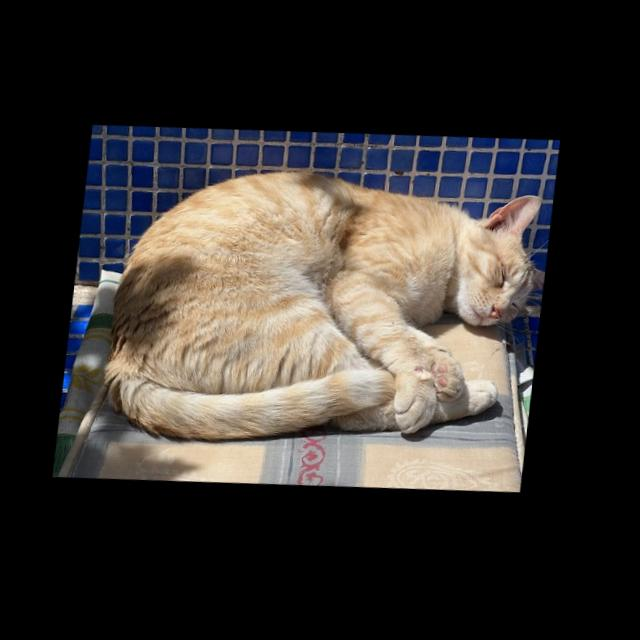animals: (102, 154, 558, 467)
